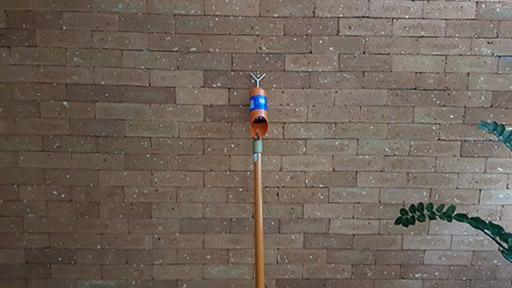Detector_Tensao_Contato: (247, 71, 269, 140)
Vara_Manobra: (251, 139, 265, 288)
